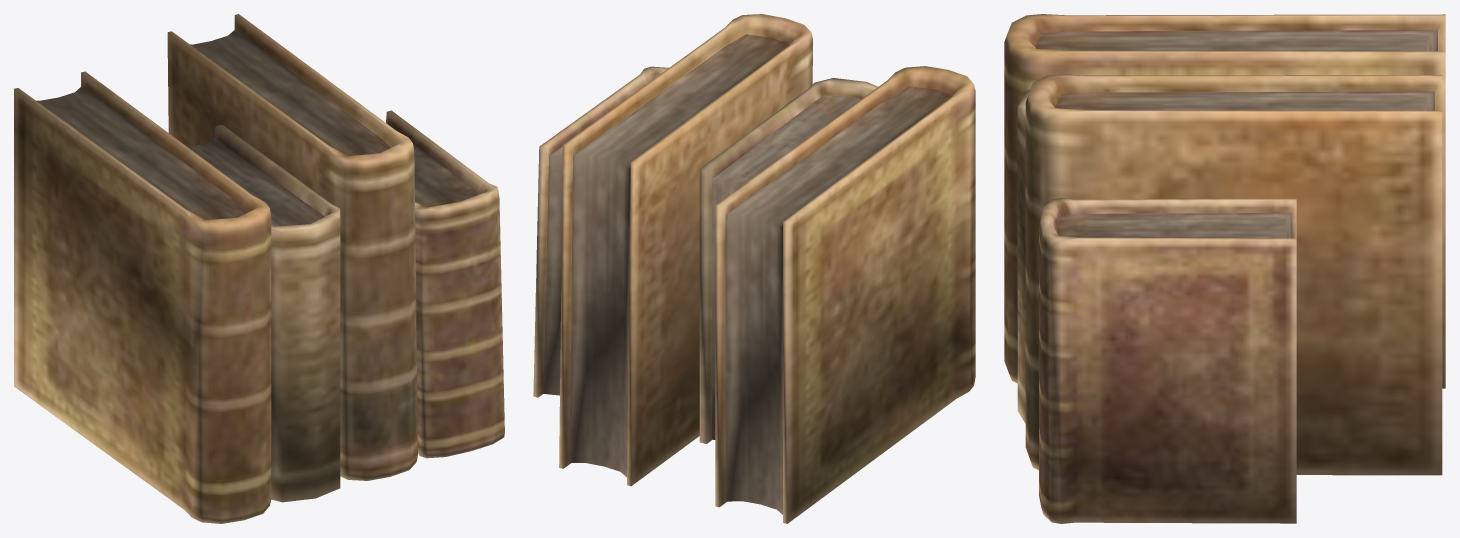
File: book_pile_05_e.glb
The picture shows the model from 3 angles, left to right: view 1: azimuth 30°, elevation 25°; view 2: azimuth 150°, elevation 25°; view 3: azimuth 270°, elevation 25°; orthographic projection. The views are drawn at different scales.
Visible parts, largest first — view 1: global_props_book_pile_01_e; view 2: global_props_book_pile_01_e; view 3: global_props_book_pile_01_e.
Boxes of the visible parts, left/top/right/bottom form: global_props_book_pile_01_e: left=14, top=14, right=504, bottom=523; global_props_book_pile_01_e: left=533, top=14, right=975, bottom=523; global_props_book_pile_01_e: left=1004, top=14, right=1445, bottom=523.
Bounding box in the file's own units: 0.5127 × 0.493 × 0.5458.
Materials: 1 (1 with a texture image).
